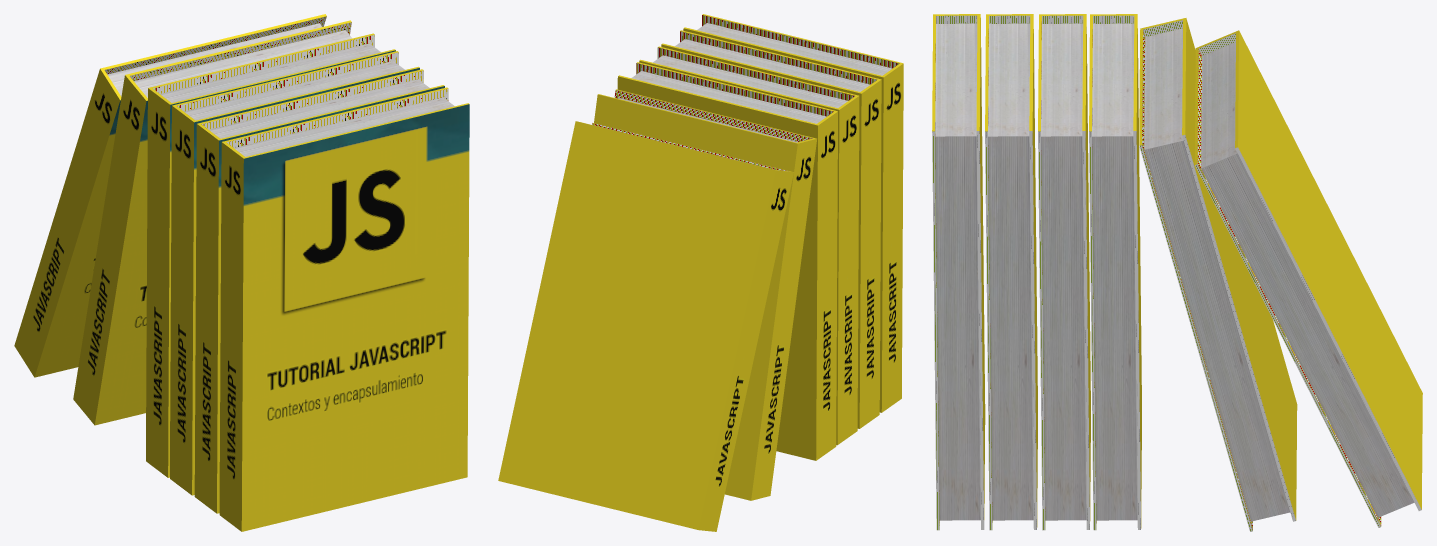
File: Books 2.FBX
The picture shows the model from 3 angles, left to right: view 1: azimuth 30°, elevation 25°; view 2: azimuth 150°, elevation 25°; view 3: azimuth 270°, elevation 25°; orthographic projection. The views are drawn at different scales.
Parts seen in each view (by area): view 1: Books 2; view 2: Books 2; view 3: Books 2.
Boxes of the visible parts, x1,y1,x2,y2 form: Books 2: (14, 14, 469, 531); Books 2: (498, 14, 903, 531); Books 2: (932, 14, 1422, 531).
Bounding box in the file's own units: 6 × 10.6 × 9.55.
Materials: 1 (1 with a texture image).
